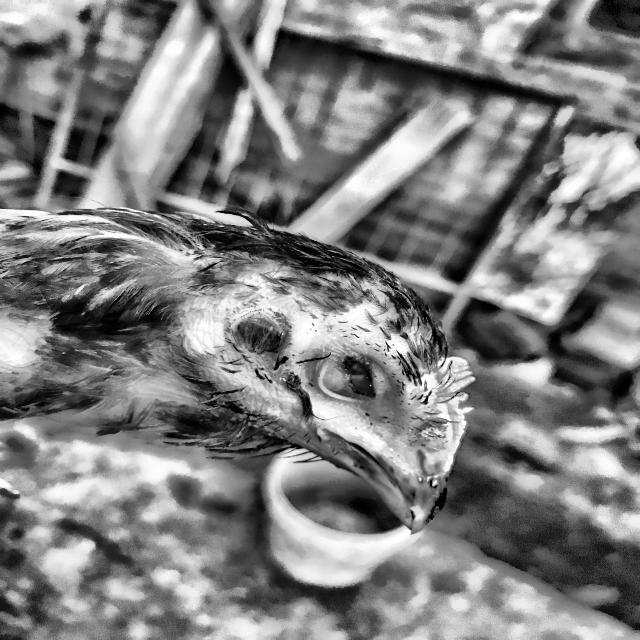Coryza: (90, 178, 508, 579)
